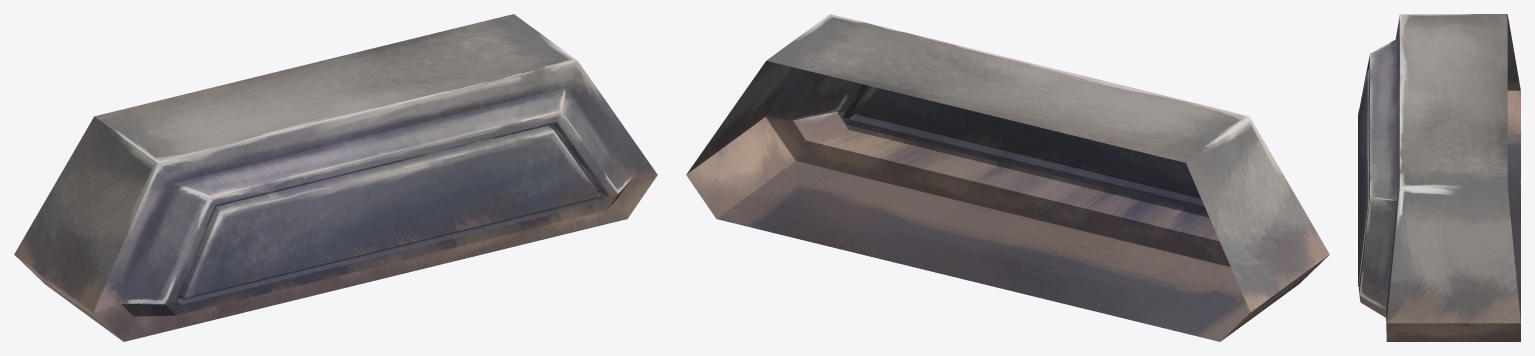
The model's file is CimaRoda.fbx.
3 renders of one model, left to right at view 1: azimuth 30°, elevation 25°; view 2: azimuth 150°, elevation 25°; view 3: azimuth 270°, elevation 25°, orthographic. The views are drawn at different scales.
Visible parts, largest first — view 1: CimaRoda; view 2: CimaRoda; view 3: CimaRoda.
Boxes of the visible parts, x1=… form: CimaRoda: x1=14, y1=14, x2=657, y2=341; CimaRoda: x1=686, y1=14, x2=1329, y2=341; CimaRoda: x1=1358, y1=14, x2=1520, y2=341.
Size of the model in its own units: 234 by 64.66 by 69.31.
